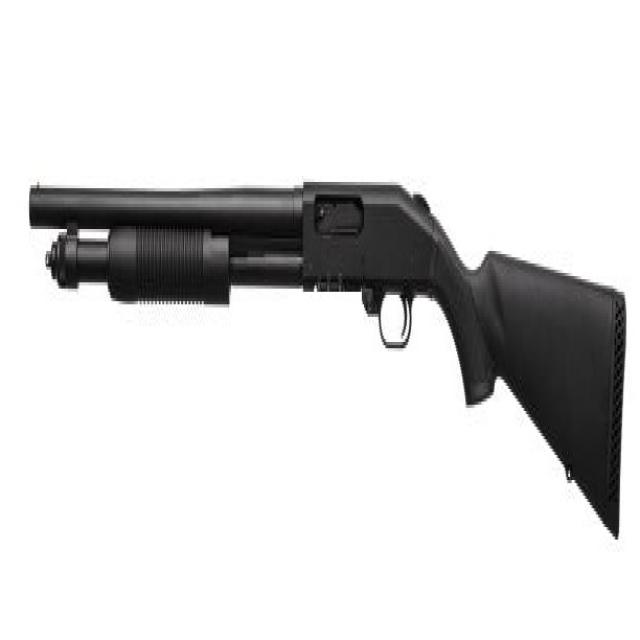rifle: (27, 141, 636, 557)
